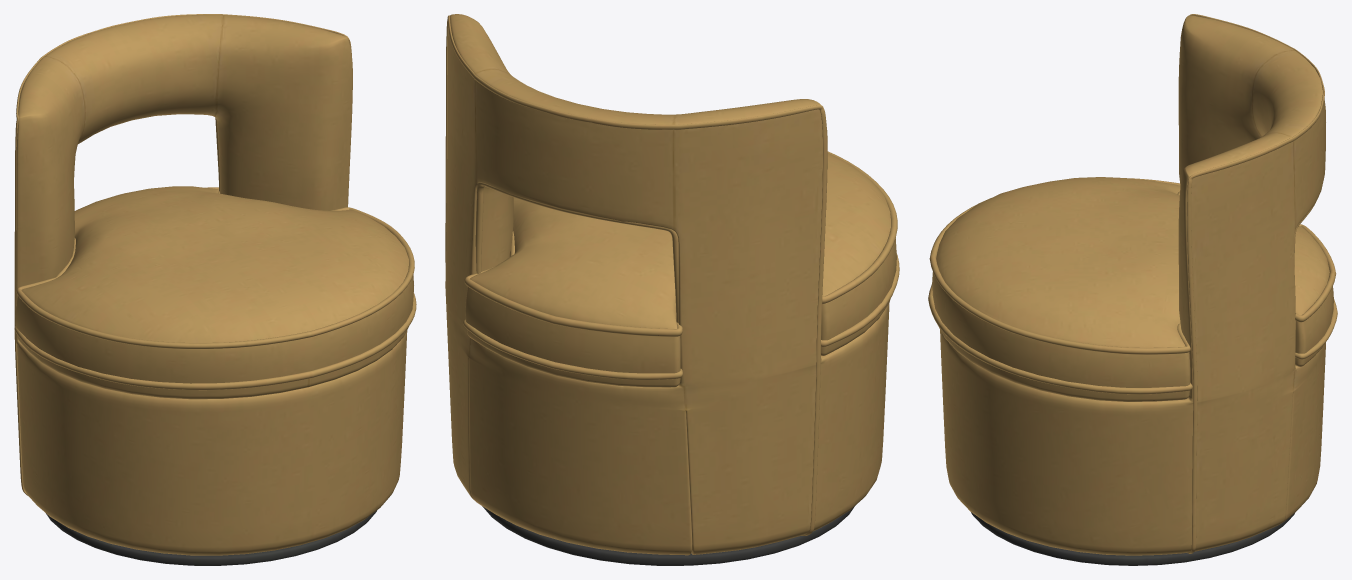
File: abo-B07QCMBCXJ.glb
3 renders of one model, left to right at view 1: azimuth 30°, elevation 25°; view 2: azimuth 150°, elevation 25°; view 3: azimuth 270°, elevation 25°, orthographic. The views are drawn at different scales.
Size of the model in its own units: 0.665 by 0.723 by 0.665.
Materials: 1 (1 with a texture image).
